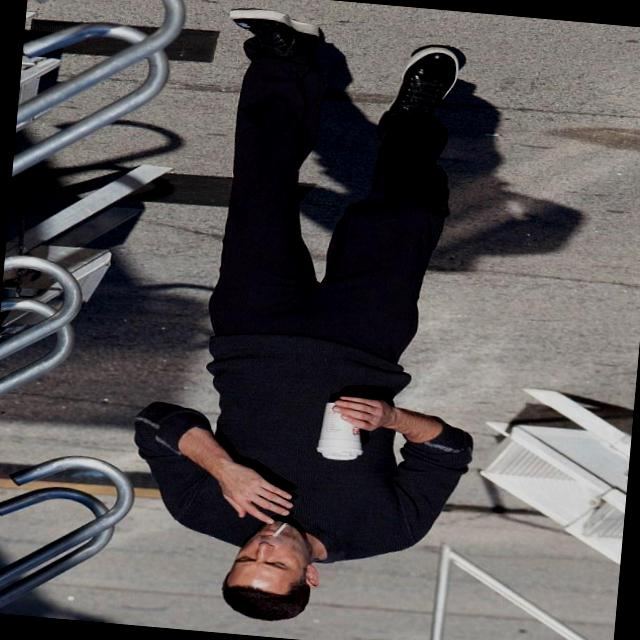smoke: (258, 516, 296, 550)
